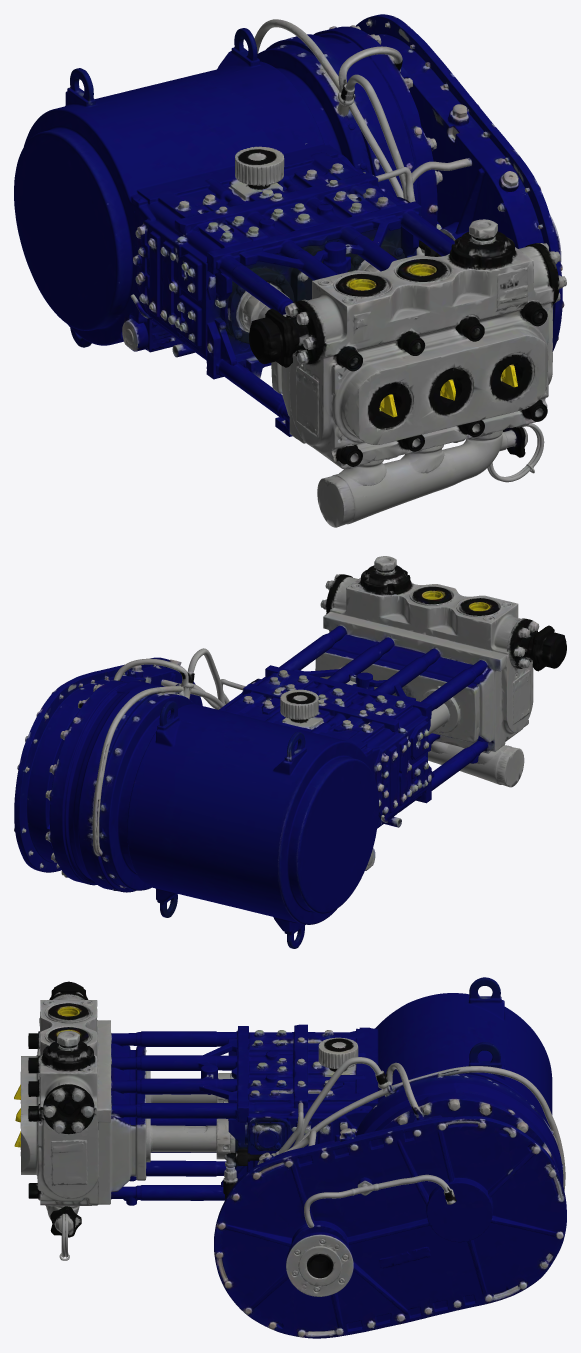
File: BombaEmboloTriplexPartes.glb
The picture shows the model from 3 angles, top to bottom: view 1: azimuth 30°, elevation 25°; view 2: azimuth 150°, elevation 25°; view 3: azimuth 270°, elevation 25°; orthographic projection. The views are drawn at different scales.
Visible parts, largest first — view 1: tripo_part_0, tripo_part_2, tripo_part_1, tripo_part_3, tripo_part_5, tripo_part_7; view 2: tripo_part_2, tripo_part_0, tripo_part_1, tripo_part_3, tripo_part_5; view 3: tripo_part_1, tripo_part_0, tripo_part_2, tripo_part_8, tripo_part_12, tripo_part_5, tripo_part_4, tripo_part_3, tripo_part_7.
Part boxes in pixels (x1,y1,x2,y2): tripo_part_0: (121, 152, 566, 468); tripo_part_2: (14, 28, 360, 347); tripo_part_1: (254, 14, 564, 351); tripo_part_3: (317, 426, 525, 527); tripo_part_5: (235, 146, 284, 189); tripo_part_7: (487, 423, 544, 482); tripo_part_2: (127, 701, 394, 948); tripo_part_0: (220, 556, 566, 870); tripo_part_1: (14, 648, 248, 892); tripo_part_3: (428, 741, 524, 787); tripo_part_5: (280, 689, 318, 723); tripo_part_1: (214, 1057, 566, 1338); tripo_part_0: (14, 981, 374, 1206); tripo_part_2: (332, 977, 552, 1140); tripo_part_8: (152, 1118, 230, 1159); tripo_part_12: (249, 1099, 376, 1115); tripo_part_5: (318, 1037, 358, 1071); tripo_part_4: (152, 1073, 230, 1102); tripo_part_3: (46, 1206, 81, 1237); tripo_part_7: (55, 1213, 75, 1260).
Size of the model in its own units: 0.7421 by 0.4888 by 1.
Materials: 14 (14 with a texture image).
